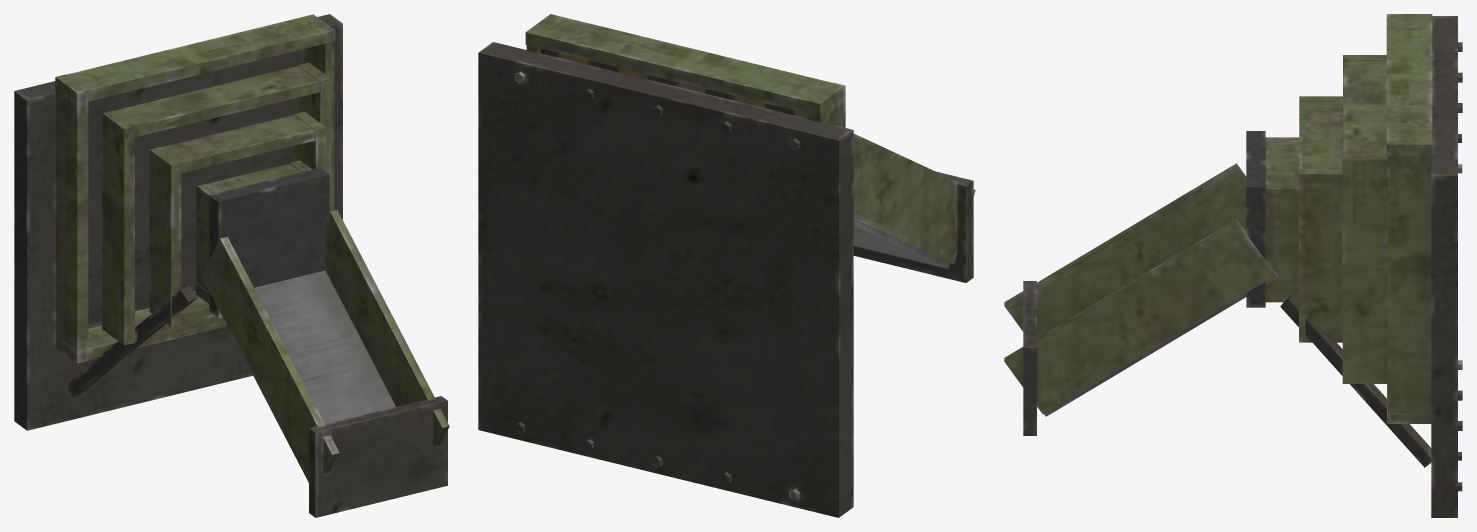
The model's file is feFunnel.glb.
The picture shows the model from 3 angles, left to right: view 1: azimuth 30°, elevation 25°; view 2: azimuth 150°, elevation 25°; view 3: azimuth 270°, elevation 25°; orthographic projection. The views are drawn at different scales.
Parts seen in each view (by area): view 1: feFunnel_Base, FeFunnelSpoutBelt; view 2: feFunnel_Base, FeFunnelSpoutBelt; view 3: feFunnel_Base, FeFunnelSpoutBelt.
Boxes of the visible parts, x1,y1,x2,y2 form: feFunnel_Base: (14, 14, 342, 430); FeFunnelSpoutBelt: (201, 210, 449, 517); feFunnel_Base: (478, 14, 853, 517); FeFunnelSpoutBelt: (853, 133, 975, 282); feFunnel_Base: (1246, 14, 1462, 517); FeFunnelSpoutBelt: (1004, 163, 1278, 435).
Size of the model in its own units: 0.8612 by 0.903 by 1.05.
1 material, 1 textured.
